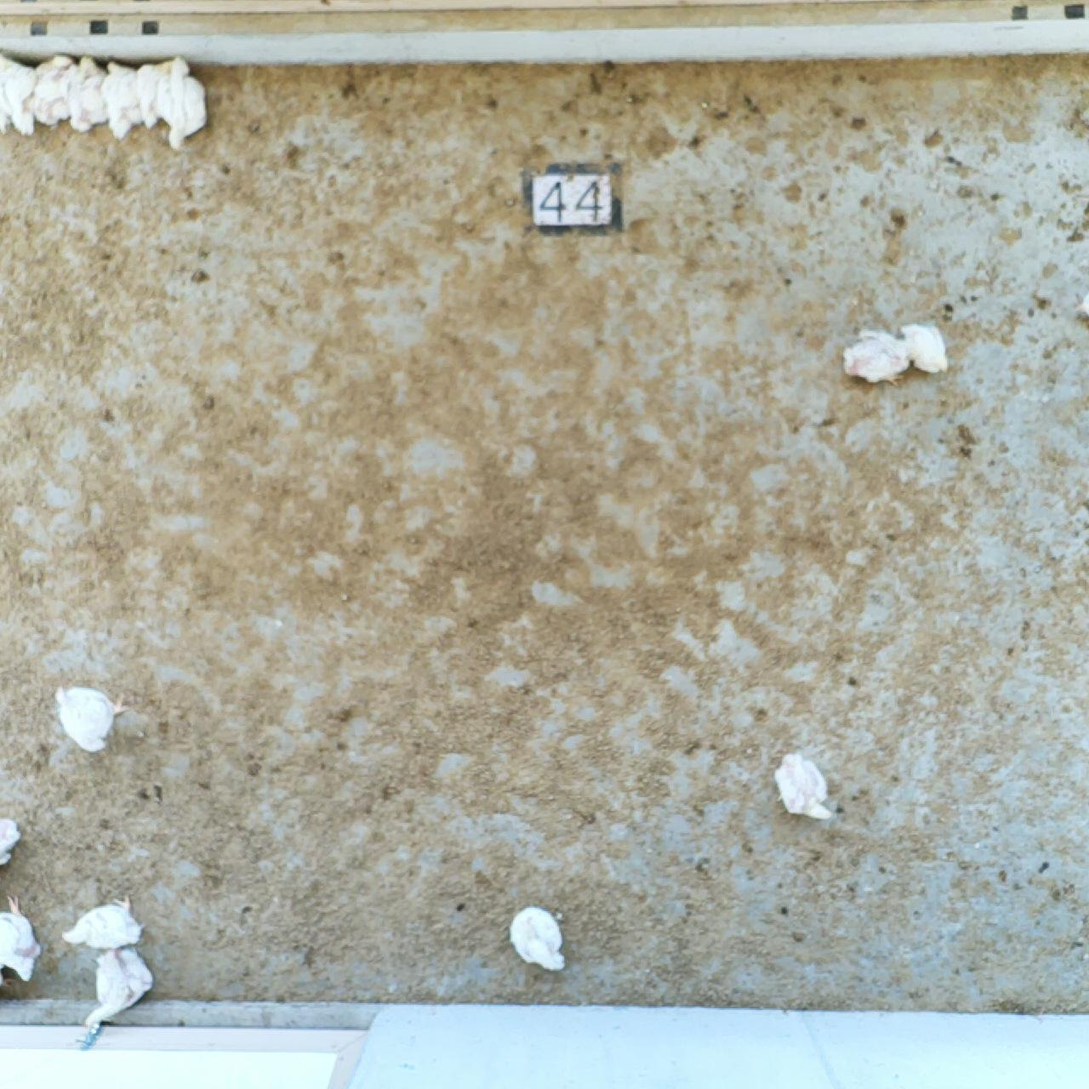chicken: (90, 949, 157, 1038), (52, 685, 129, 743), (778, 752, 836, 818), (845, 330, 912, 382), (64, 903, 145, 946), (166, 60, 206, 145), (2, 906, 42, 988), (510, 907, 562, 968), (36, 54, 74, 128), (75, 54, 107, 132), (6, 54, 32, 137), (105, 66, 136, 134), (138, 60, 166, 128), (909, 327, 944, 372), (7, 816, 30, 870)
